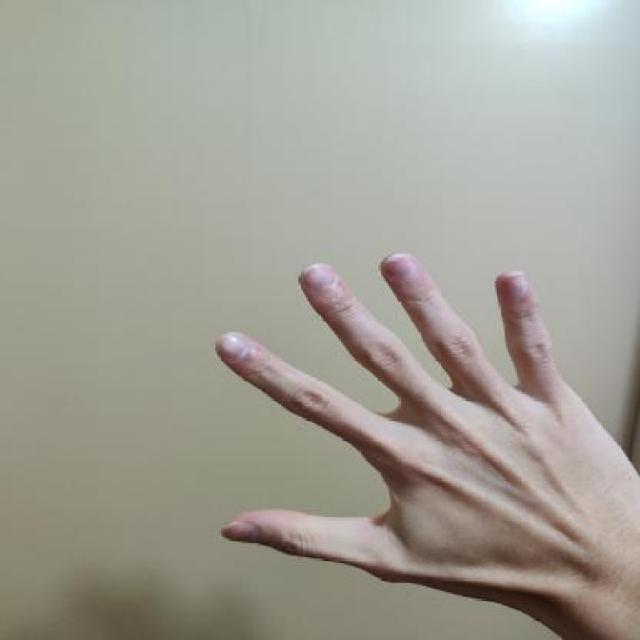bare_hand: (200, 240, 640, 640)
